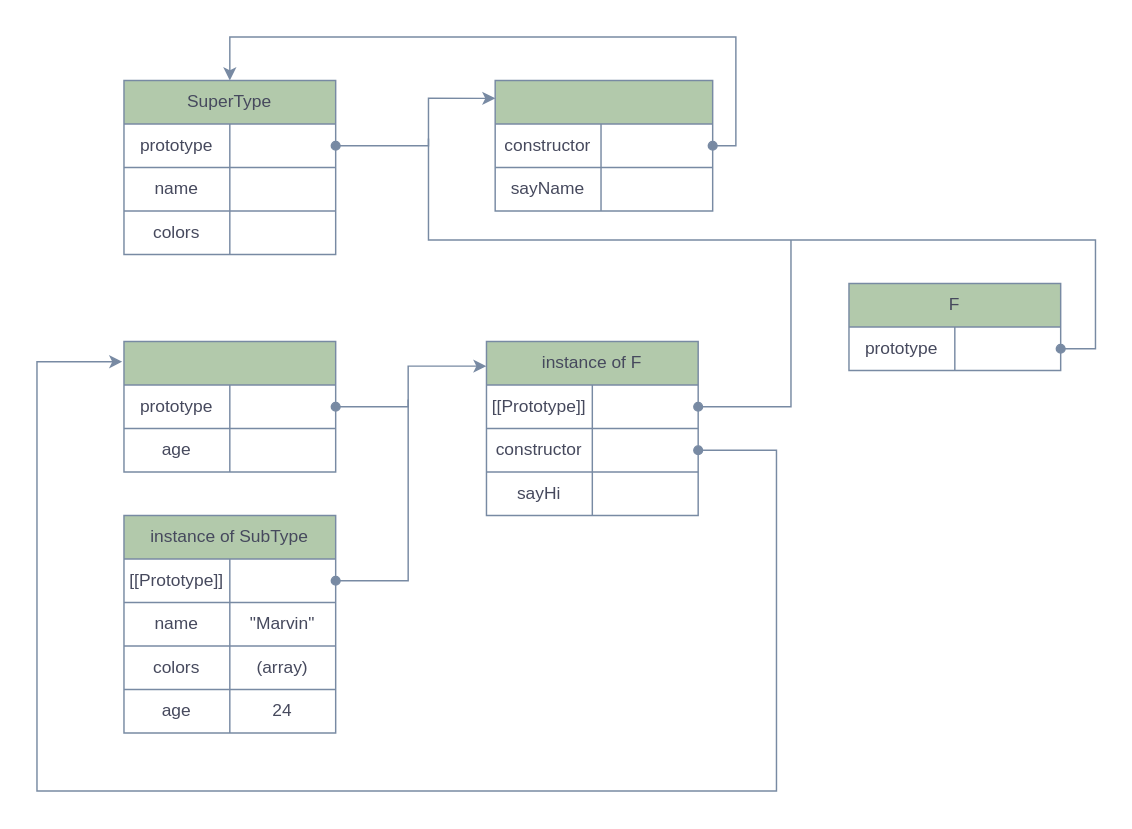
Some shapes in this 1132 by 829 pixel diagram are drawn without their labels. Here are the shapes that lost their labels. From the top down, the box of each, then its label:
(494, 79, 713, 211): SuperType Prototype
(123, 340, 336, 472): SubType
